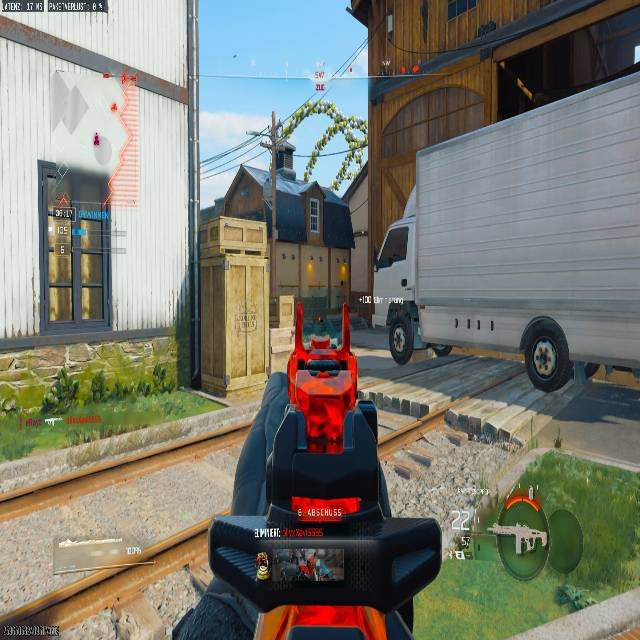player: (384, 283, 450, 364)
